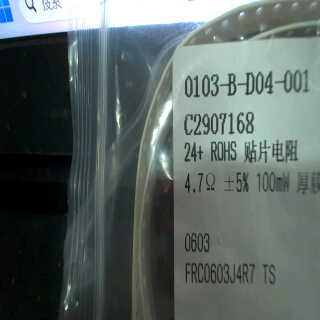4.7R: (182, 168, 225, 201)
